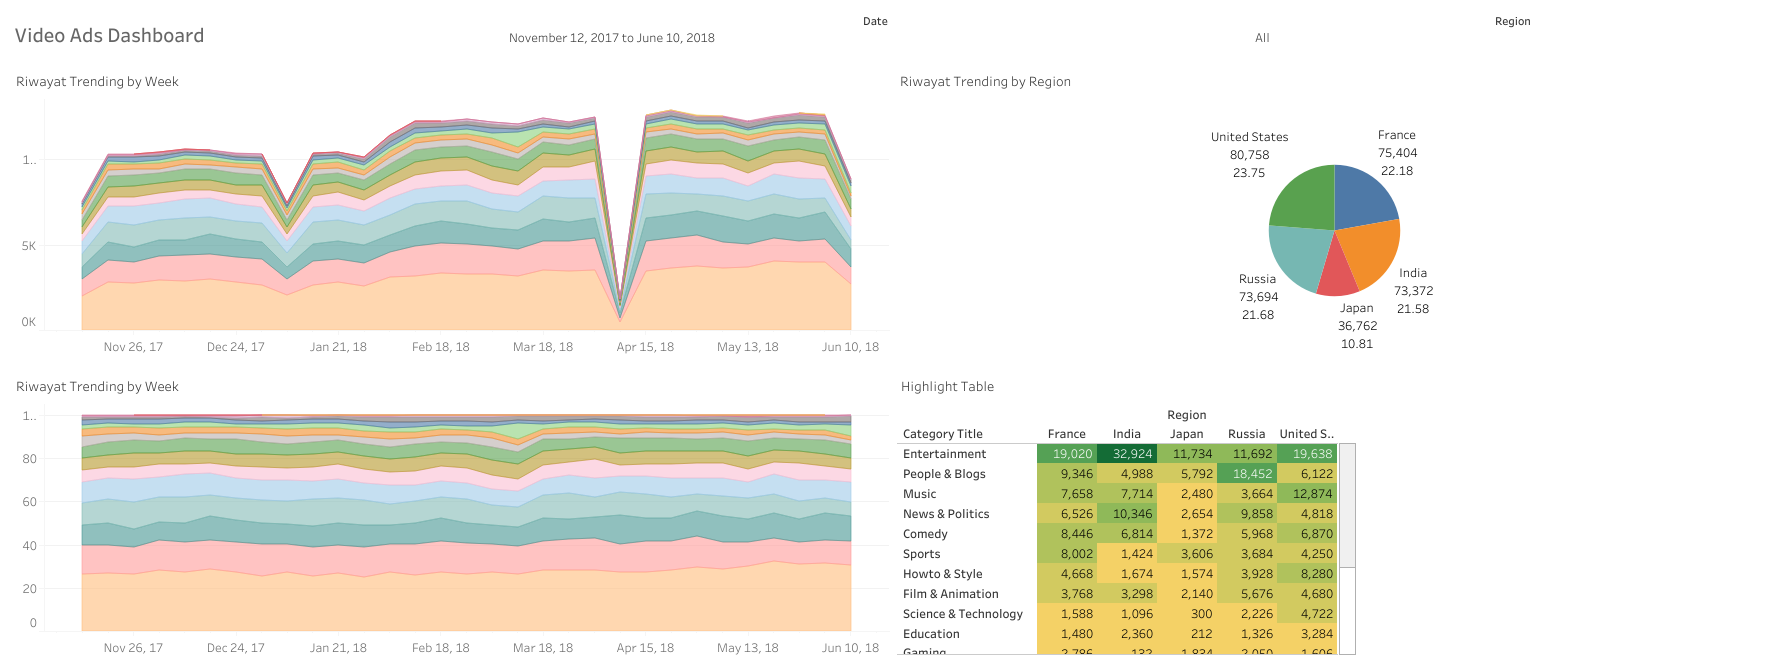

The page's visual inventory and layout, read from the dashboard file:
{"tool":"tableau","page":{"name":"Dashboard 1","canvas":[1000,1000],"units":"permille","ordinal":0},"visuals":[{"type":"text","box":[6.9,13.7,275.4,79.9]},{"type":"filter","title":"Riwayat-Trending-by-region","param":"[federated.1710k3603wbkph14j01vz1b66vxx].[twk:trending_date:qk]","box":[282.4,13.7,416.6,79.9]},{"type":"filter","title":"Riwayat-Trending-by-region","param":"[federated.1710k3603wbkph14j01vz1b66vxx].[none:region:nk]","box":[699,13.7,294.1,79.9]},{"type":"worksheet","title":"Riwayat-Trending-by-week","mark":"Area","rows":["videos_count"],"cols":["trending_date"],"box":[6.9,93.6,493.1,454.3]},{"type":"worksheet","title":"Riwayat-Trending-by-region","mark":"Pie","box":[500,93.6,493.1,454.3]},{"type":"worksheet","title":"% Riwayat-Trending-by-week","mark":"Area","cols":["trending_date"],"box":[6.9,547.9,493.5,438.4]},{"type":"worksheet","title":"Highlight-table","mark":"Square","rows":["category_title"],"cols":["region"],"box":[500.4,547.9,492.6,438.4]}]}

Visuals, with their boxes on the dashboard's canvas, which has no fixed pixel size, in thousandths of its width and height (x1, y1, x2, y2). These are canvas units, not pixel positions in the 1784x666 screenshot, which may show the page scaled, cropped or inside an application window:
text: x1=7, y1=14, x2=282, y2=94
"Riwayat-Trending-by-region" filter: x1=282, y1=14, x2=699, y2=94
"Riwayat-Trending-by-region" filter: x1=699, y1=14, x2=993, y2=94
"Riwayat-Trending-by-week" worksheet (Area marks): x1=7, y1=94, x2=500, y2=548
"Riwayat-Trending-by-region" worksheet (Pie marks): x1=500, y1=94, x2=993, y2=548
"% Riwayat-Trending-by-week" worksheet (Area marks): x1=7, y1=548, x2=500, y2=986
"Highlight-table" worksheet (Square marks): x1=500, y1=548, x2=993, y2=986
